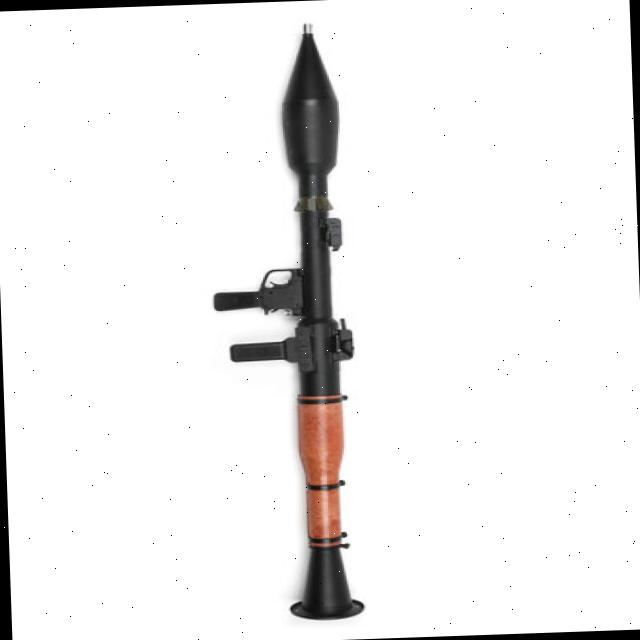Bazooka: (180, 7, 391, 624)
